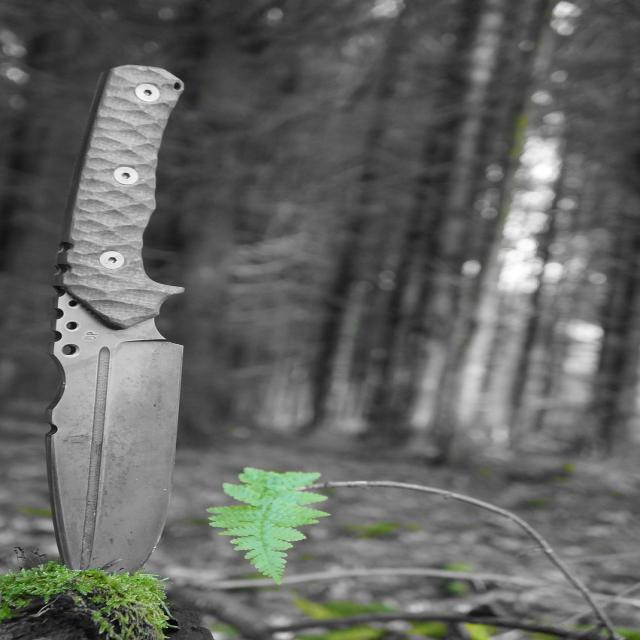knife: (45, 62, 184, 574)
